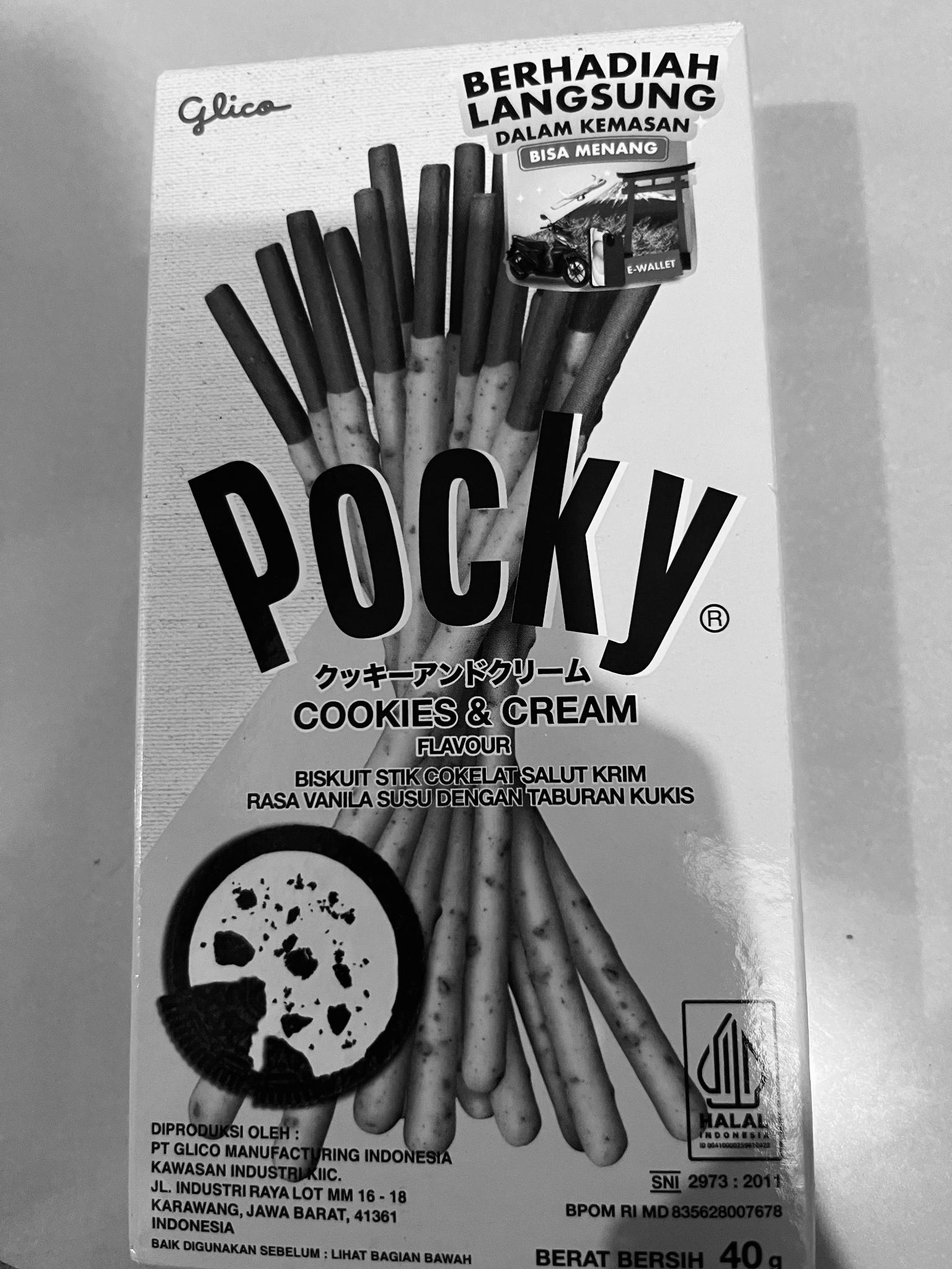Kertas: (132, 25, 809, 1265)
